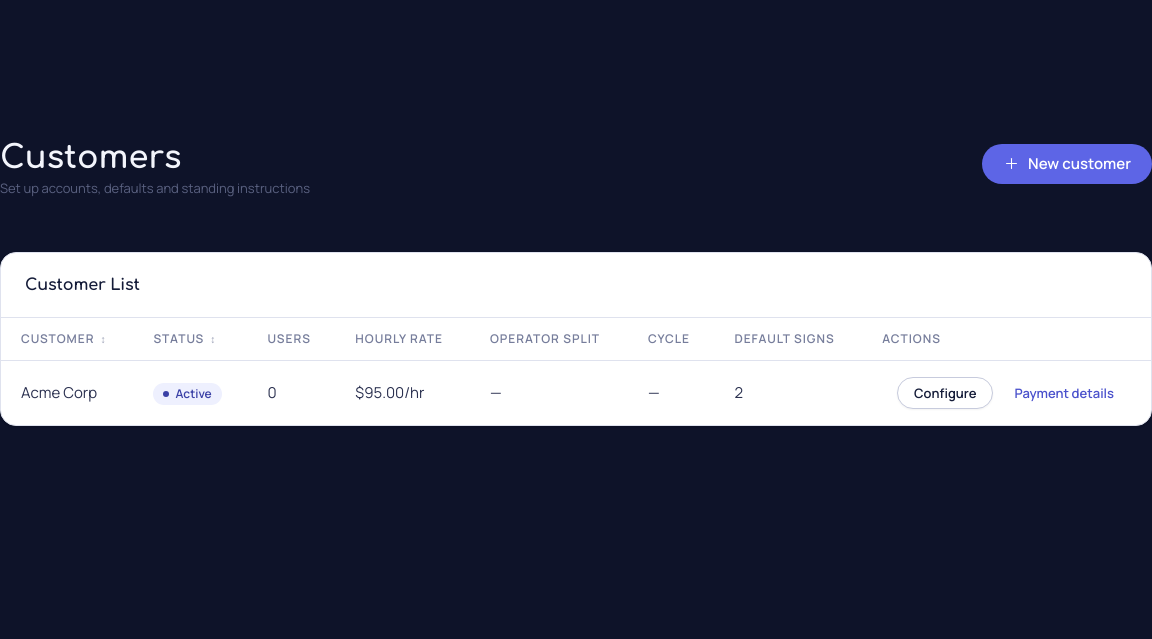
Test case: Operator Customers Page › saves edited defaults from the configure panel
The width and height of the screenshot is (1152, 639).
Expected: the text "Acme Corp" is shown, [21, 382, 97, 403]
Expected: the text "Active" is shown, [153, 383, 222, 405]
Click the button with aria-label "configure customer acme corp" at (945, 393), box [897, 377, 994, 409]
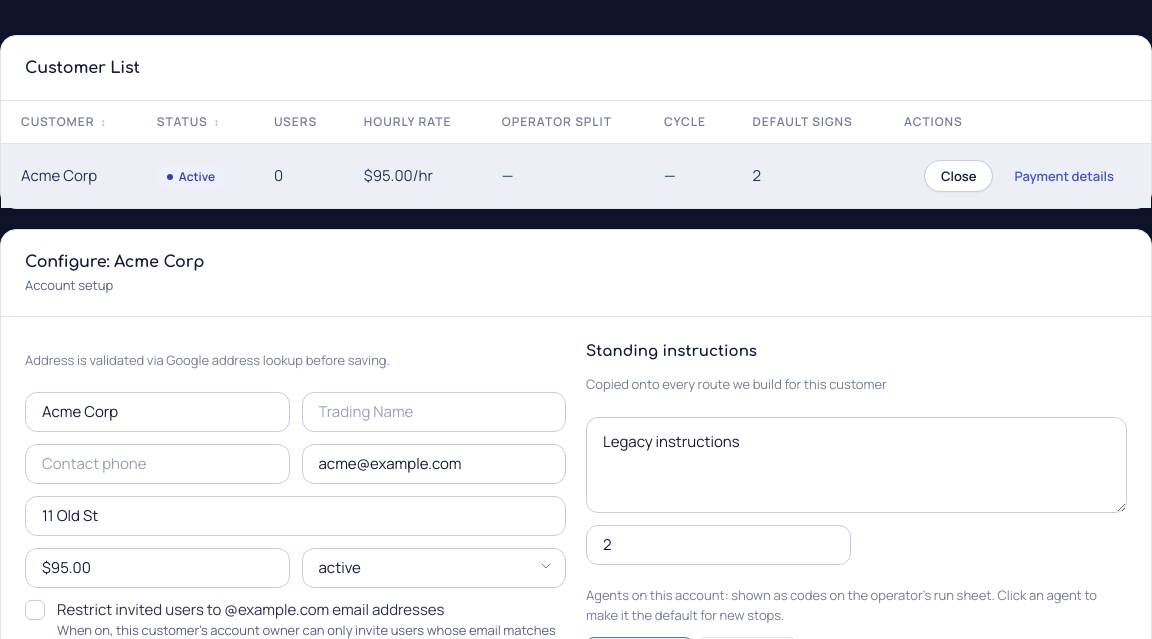
Replace the text in the number field with placeholder "Default number of signs" with "6" at (718, 545), box [586, 525, 850, 565]
(page scrolled)
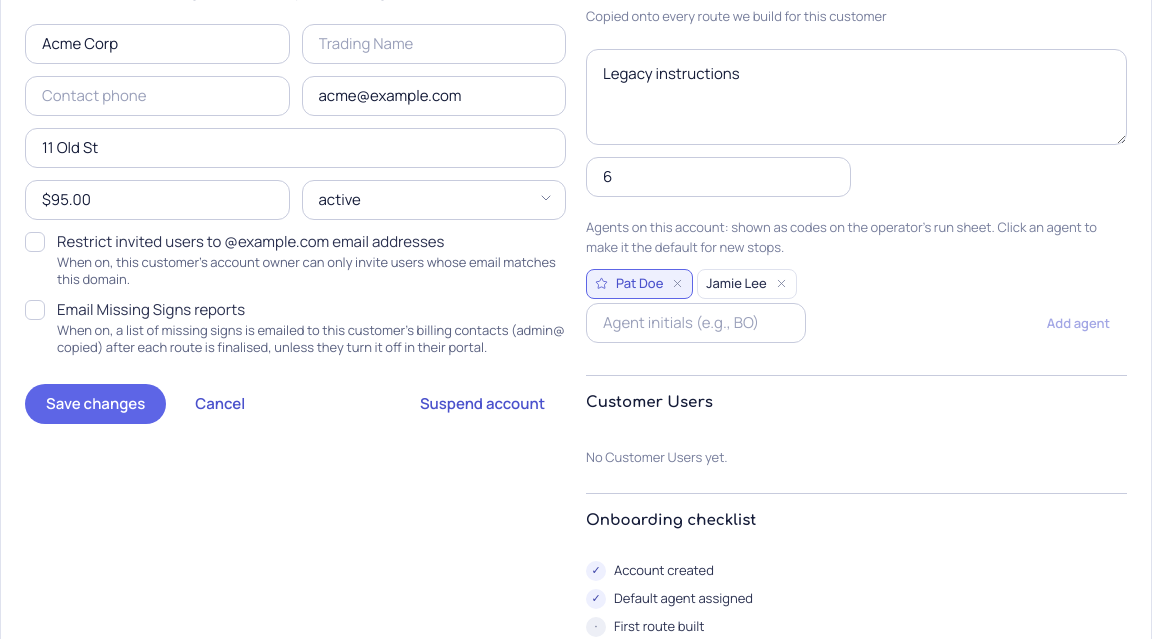
Remove the "Pat Doe" agent chip and add "Alex Roe" via the tag-chip editor.
Click the button named "remove" next to "Pat Doe" at (678, 284), box [671, 277, 684, 290]
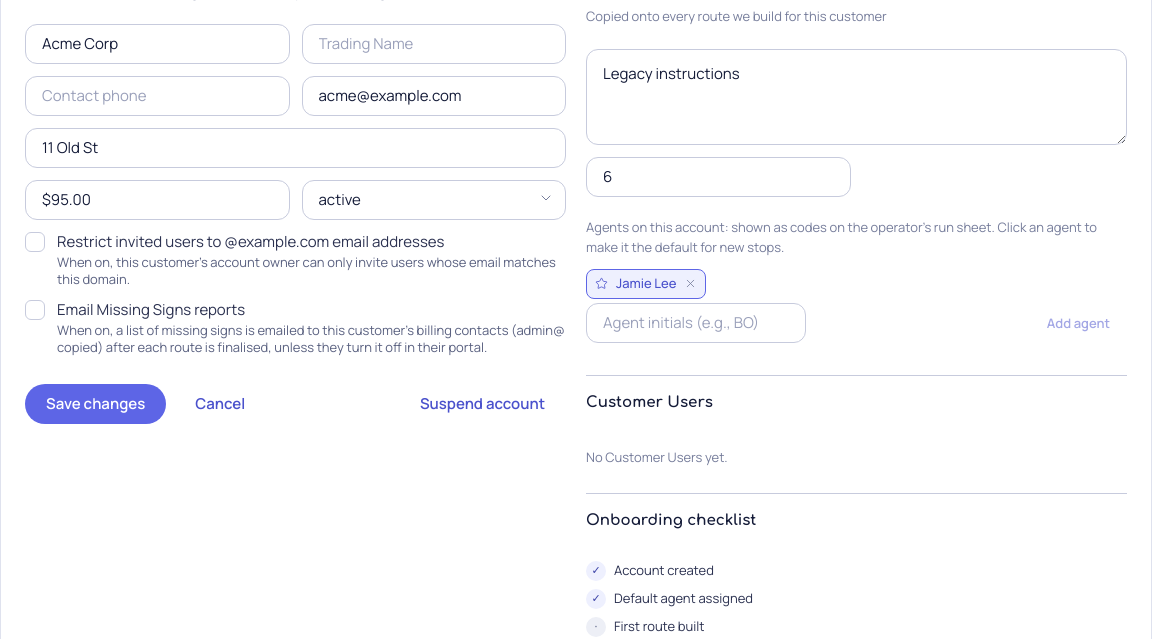
Type "Alex Roe" into the field named "Add agent" at (696, 323), box [586, 303, 806, 343]
Click the button "Add agent" at (1078, 323), box [1030, 307, 1127, 339]
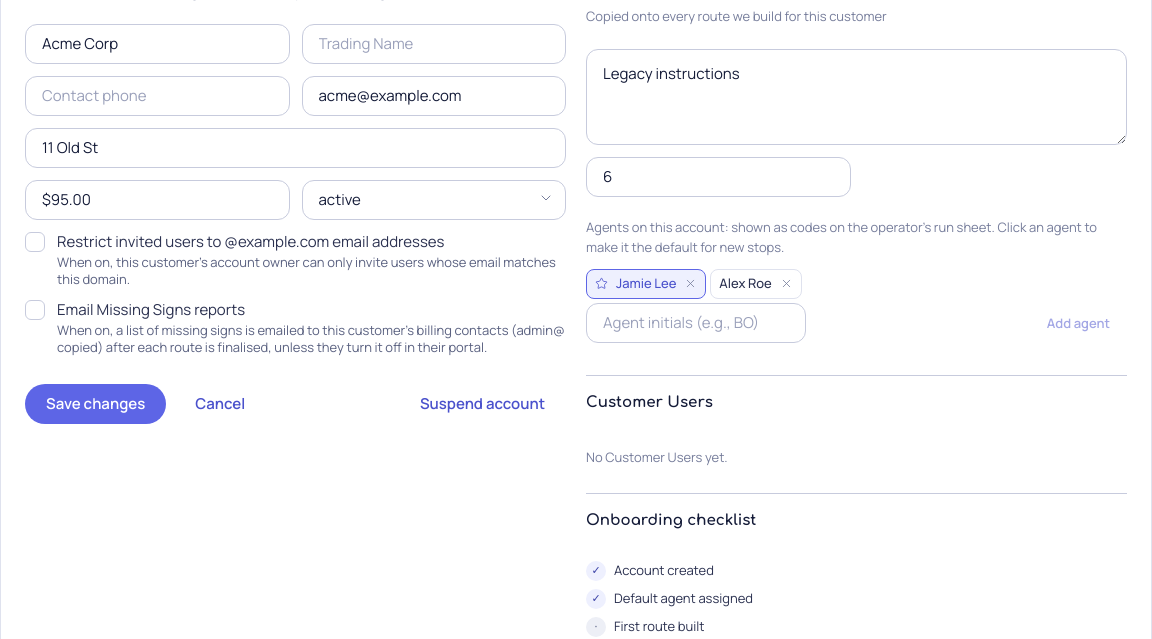
Replace the text in the text box with placeholder "Standing instructions for operators" with "Updated standing instructions." at (856, 97), box [586, 49, 1127, 145]
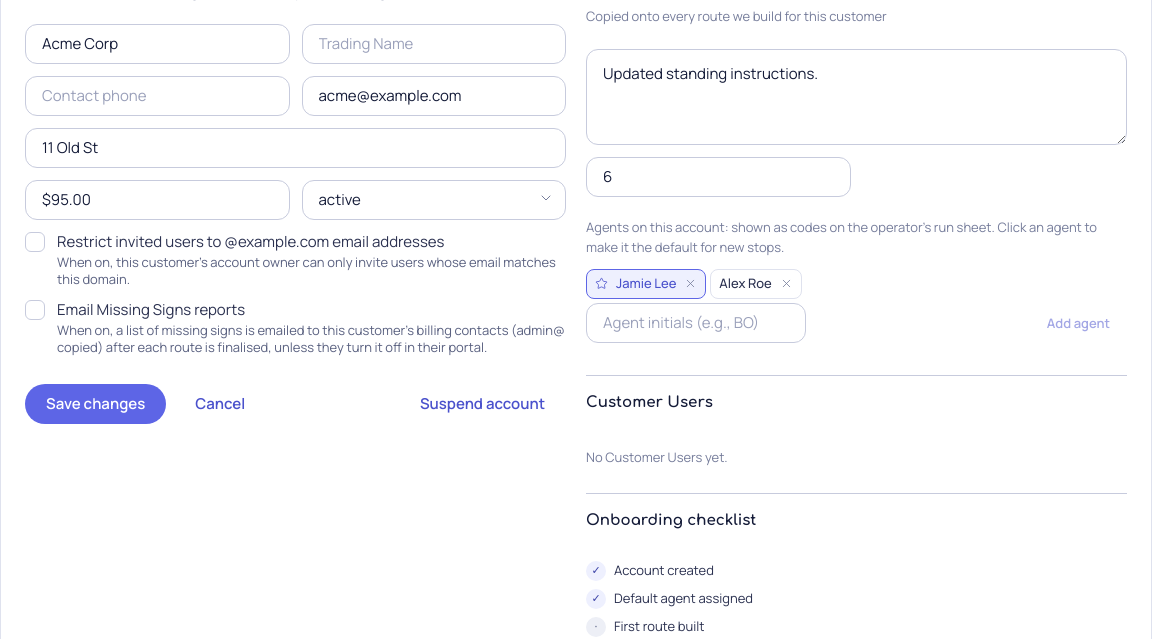
Click the button "Save changes" at (96, 404), box [25, 384, 166, 424]
(page scrolled)
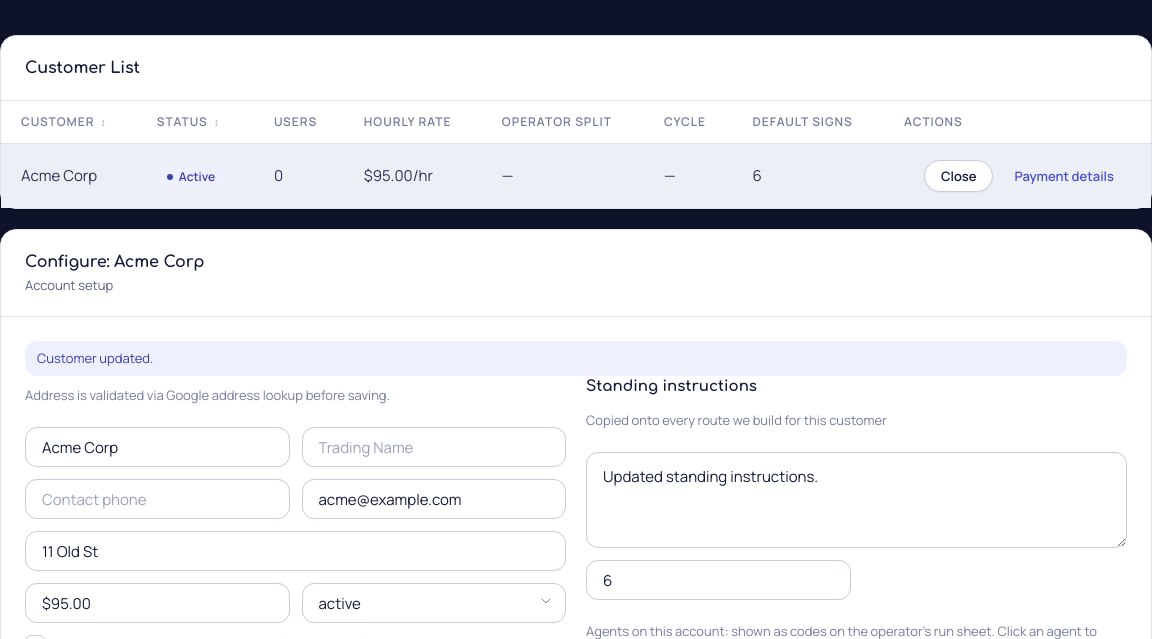
Expected: the heading "Configure: Acme Corp" is shown, [25, 250, 204, 274]
Expected: the text "Customer updated." is shown, [25, 341, 1127, 376]
